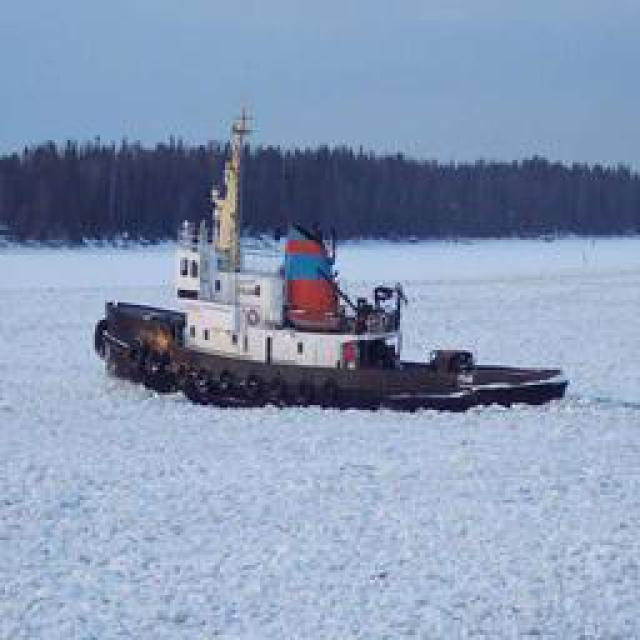Ship: (95, 237, 565, 415)
